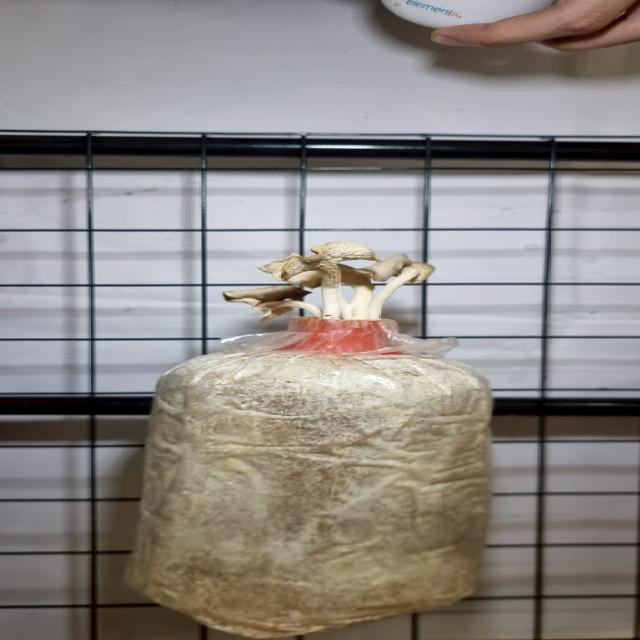abnormal: (194, 281, 334, 318), (289, 237, 375, 289), (396, 255, 446, 287), (362, 254, 411, 282)
